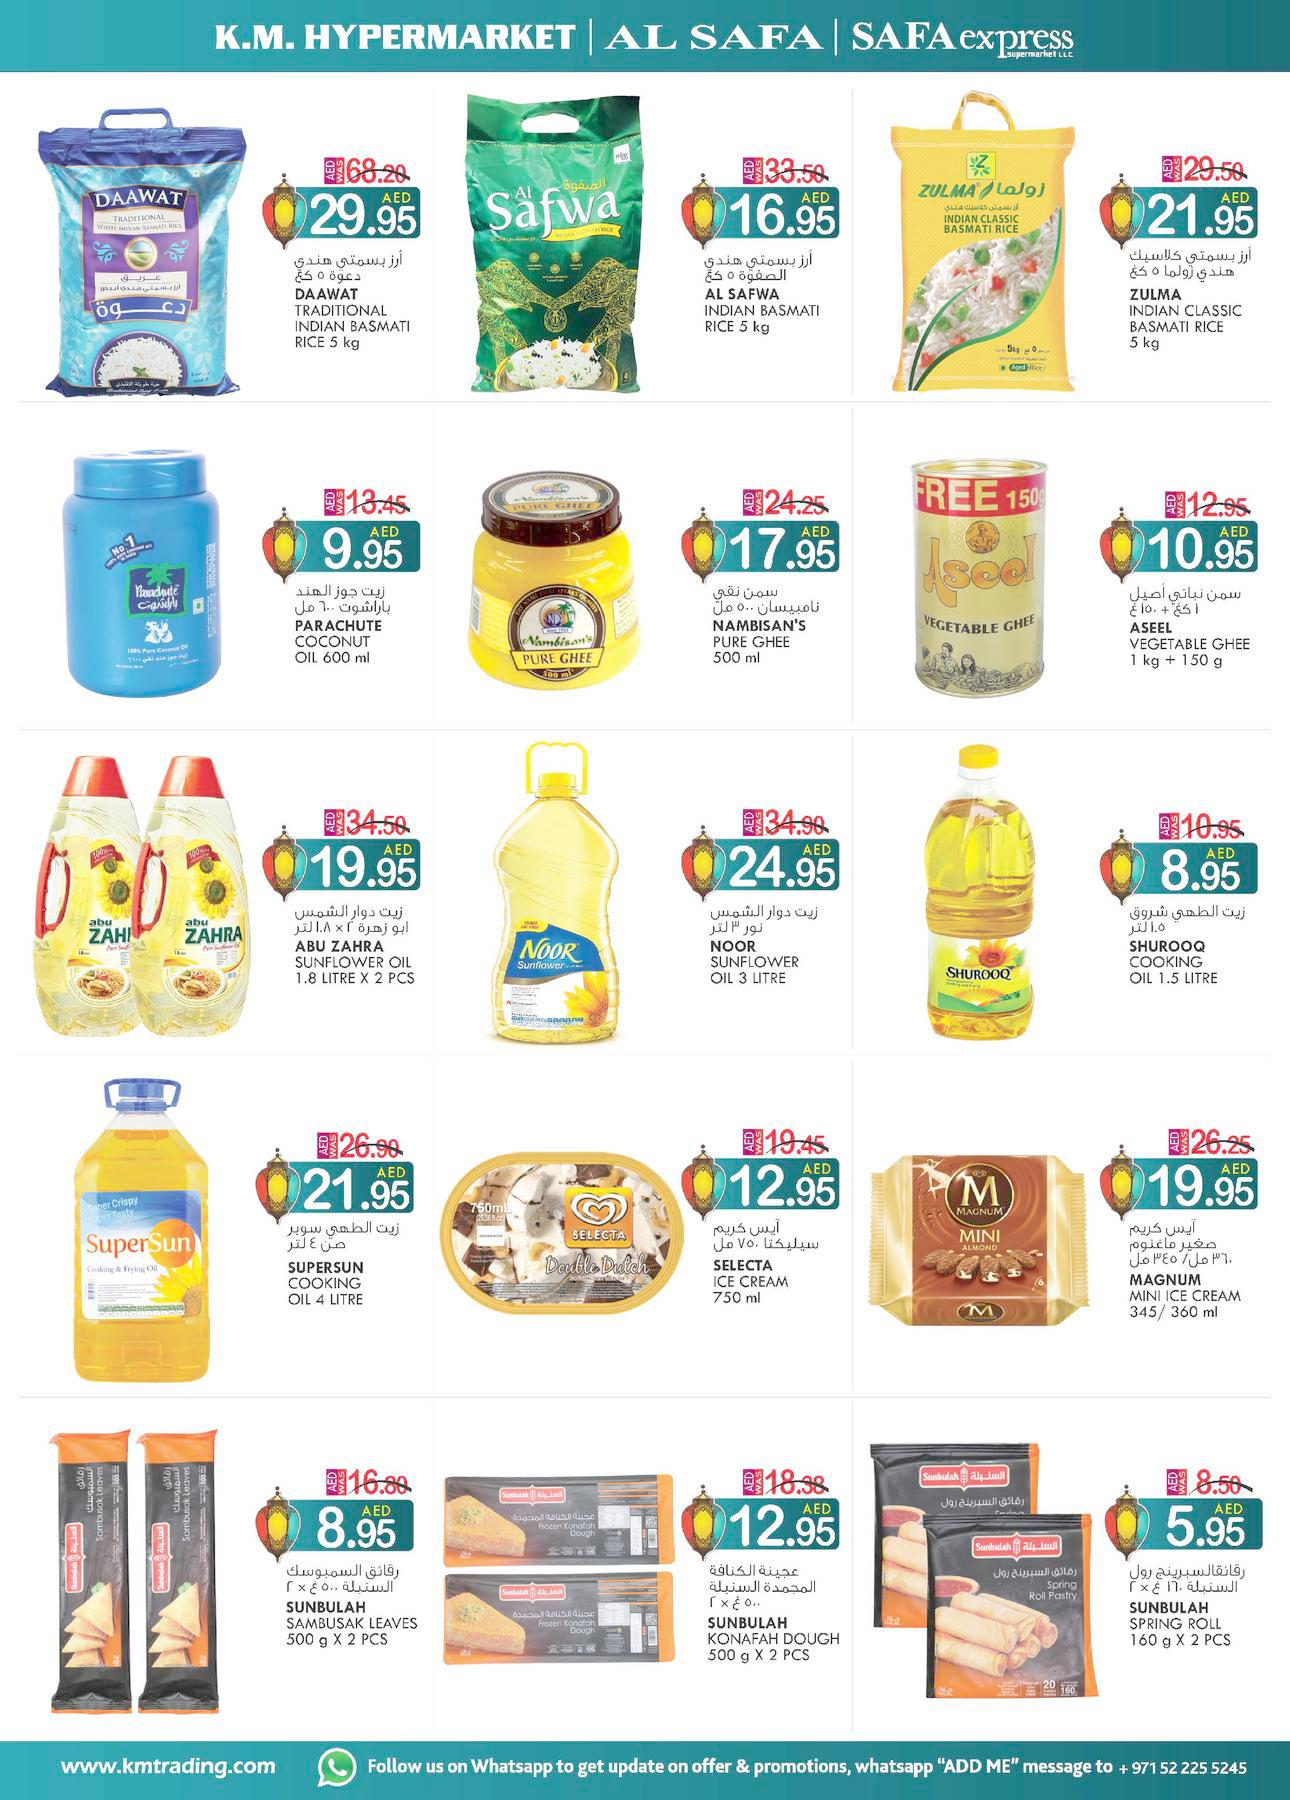text: (699, 1557, 847, 1674), (1120, 241, 1259, 356), (286, 244, 424, 357), (1117, 1214, 1250, 1328), (279, 1559, 424, 1660), (1121, 579, 1262, 680), (285, 897, 429, 993), (1121, 1554, 1255, 1658), (697, 246, 829, 343), (1121, 896, 1254, 992), (699, 1215, 831, 1312), (699, 896, 831, 992), (281, 1217, 406, 1316), (704, 580, 831, 671), (288, 578, 396, 671)
